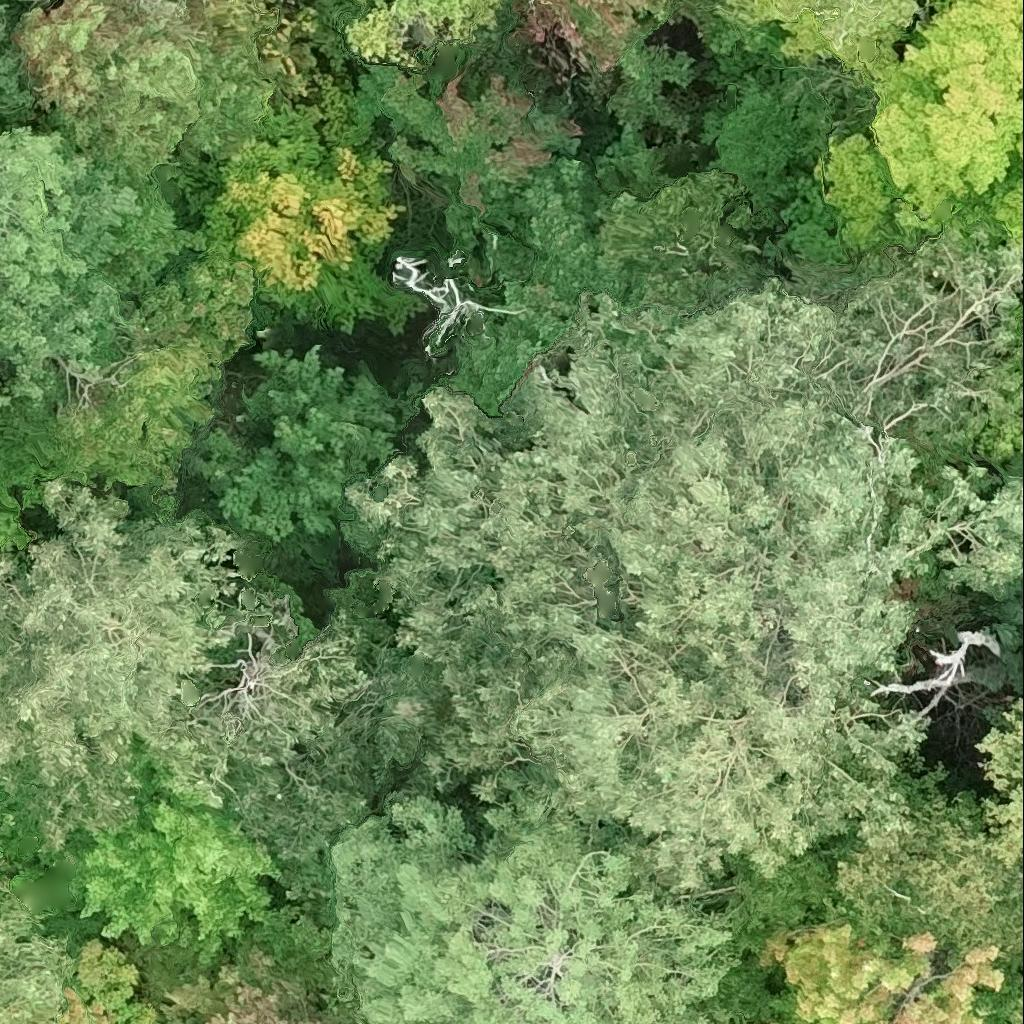crown: (349, 228, 1023, 897), (332, 772, 738, 1023), (0, 471, 244, 849), (0, 262, 257, 521), (784, 0, 1023, 270), (17, 0, 336, 194), (187, 585, 372, 918), (68, 746, 300, 962), (0, 62, 139, 409), (200, 341, 427, 547), (199, 135, 427, 328), (825, 763, 1023, 980), (372, 63, 574, 226), (539, 177, 751, 304), (141, 901, 354, 1023), (758, 922, 1009, 1023), (709, 0, 937, 86), (515, 0, 682, 80), (347, 638, 443, 776), (392, 255, 511, 356), (0, 864, 74, 1023), (342, 0, 506, 71), (497, 153, 602, 259), (975, 706, 1023, 866), (971, 367, 1023, 460), (1006, 987, 1023, 1023), (173, 0, 224, 7), (0, 6, 4, 34), (1022, 477, 1023, 480)
